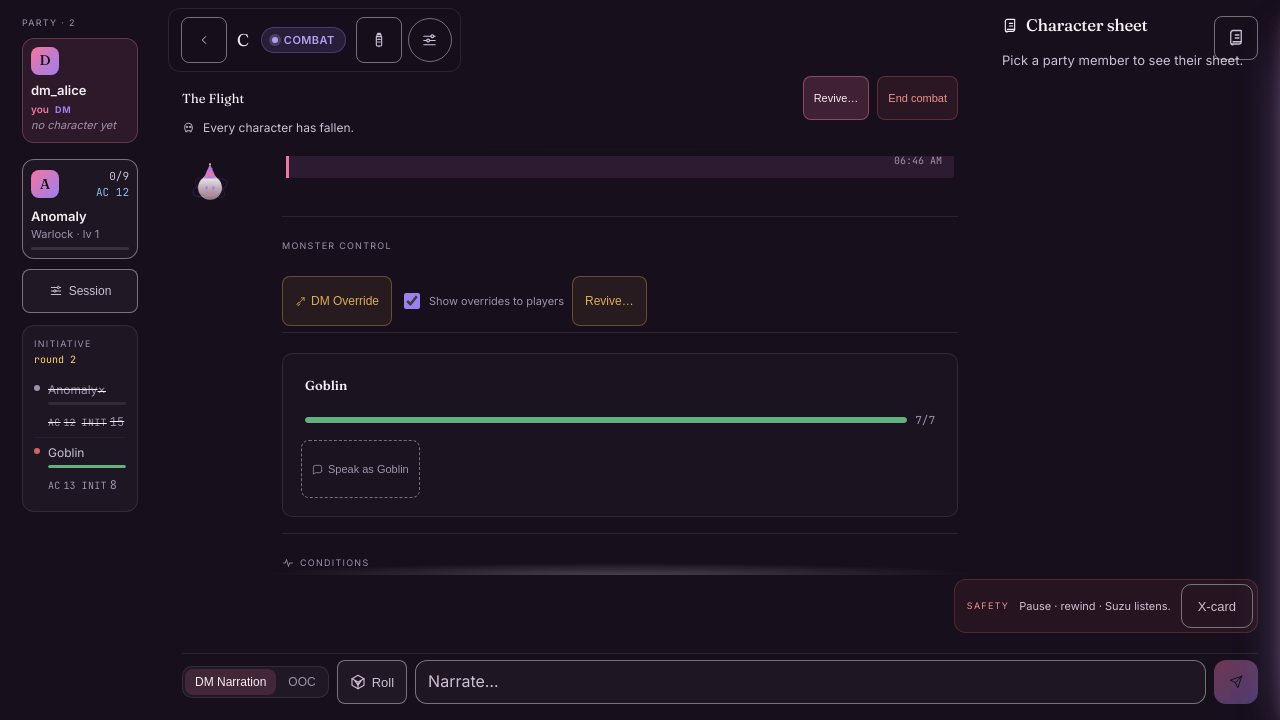
Scenario: R4-3 (Kage N-2): the confirm and the End-session warning do not say everyone has fallen when a character is standing › control: all fallen keeps its words
(page scrolled)
Expected: the text "Every character has fallen." is shown, [182,120,354,135]
Click the button "End combat": x=918, y=98 [877,76,958,120]
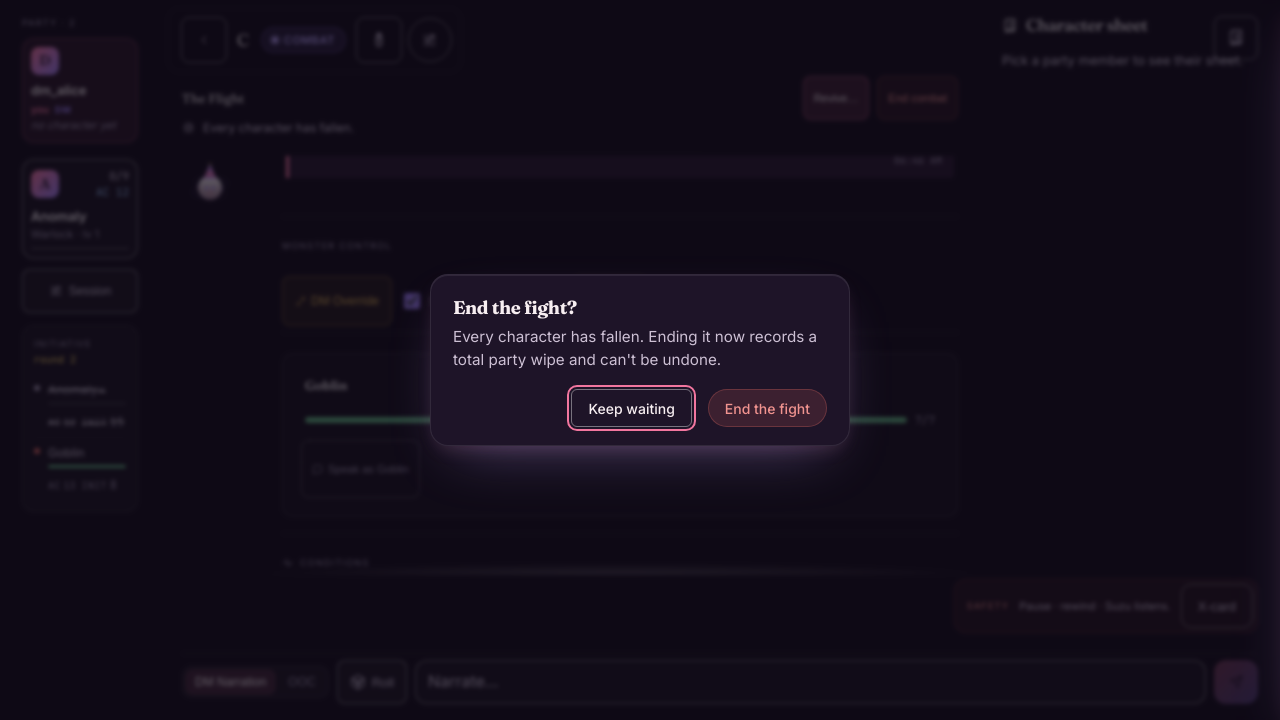
Expected: the dialog "End the fight?" shows "Every character has fallen. Ending it now records a total party wipe and can't be undone.", [453,327,817,369]
